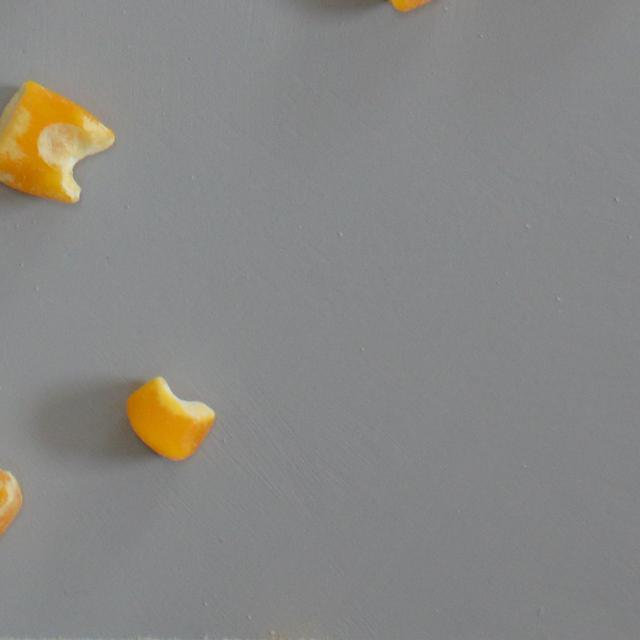dañado: (0, 74, 118, 209), (122, 373, 219, 466), (348, 0, 482, 20)
pelicula: (0, 436, 26, 554)
